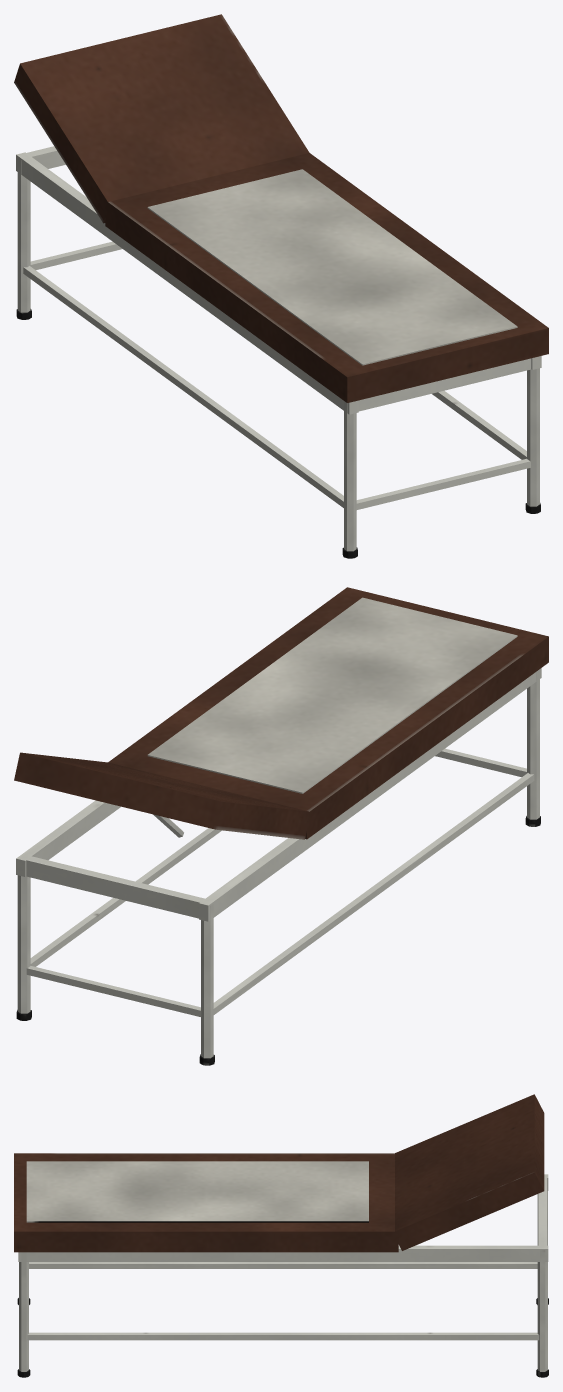
The model's file is Couch_Medical.fbx.
3 views of the same model, one above another, from view 1: azimuth 30°, elevation 25°; view 2: azimuth 150°, elevation 25°; view 3: azimuth 270°, elevation 25° (orthographic). The views are drawn at different scales.
Visible parts, largest first — view 1: КОЙКА ДЛЯ ПРОЦЕДУРНОЙ И ТД; view 2: КОЙКА ДЛЯ ПРОЦЕДУРНОЙ И ТД; view 3: КОЙКА ДЛЯ ПРОЦЕДУРНОЙ И ТД.
Boxes of the visible parts, x1,y1,x2,y2 form: КОЙКА ДЛЯ ПРОЦЕДУРНОЙ И ТД: (14, 14, 548, 558); КОЙКА ДЛЯ ПРОЦЕДУРНОЙ И ТД: (14, 587, 548, 1065); КОЙКА ДЛЯ ПРОЦЕДУРНОЙ И ТД: (14, 1094, 548, 1377).
Size of the model in its own units: 0.65 by 0.7987 by 1.88.
1 material, 1 textured.
